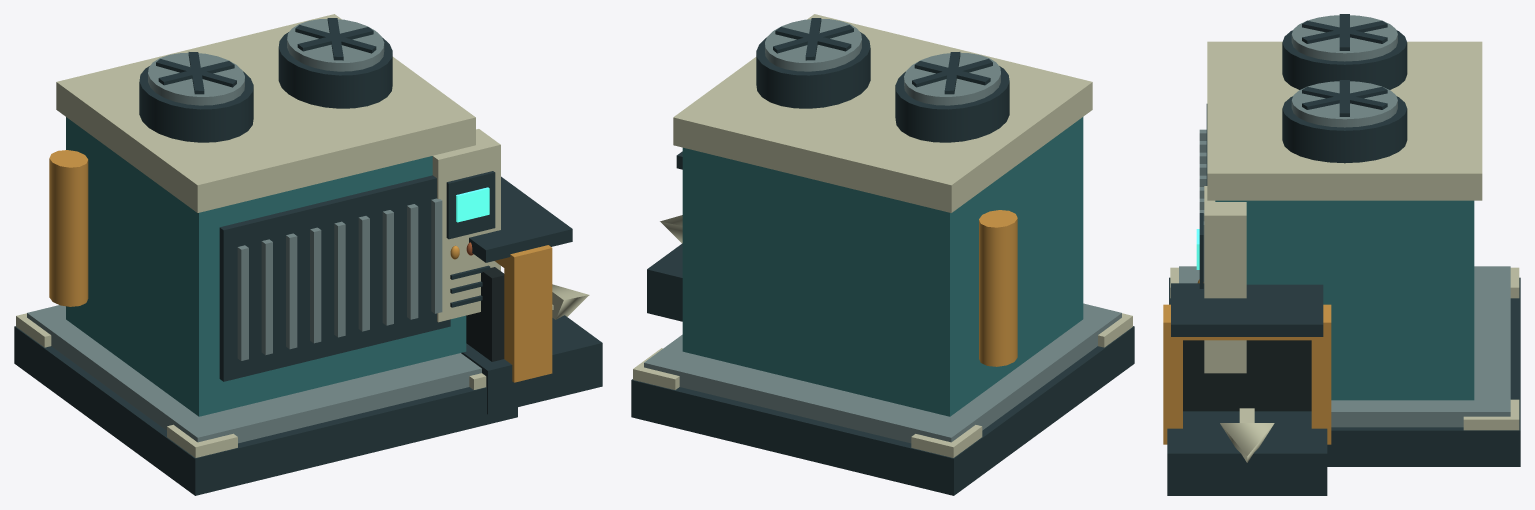
File: collector.glb
3 views of the same model, side by side, from view 1: azimuth 30°, elevation 25°; view 2: azimuth 150°, elevation 25°; view 3: azimuth 270°, elevation 25° (orthographic). The views are drawn at different scales.
Visible parts, largest first — view 1: Batched static factory; view 2: Batched static factory; view 3: Batched static factory.
Boxes of the visible parts, left/top/right/bottom form: Batched static factory: left=14, top=14, right=602, bottom=495; Batched static factory: left=631, top=14, right=1134, bottom=495; Batched static factory: left=1163, top=14, right=1520, bottom=495.
Bounding box in the file's own units: 2.56 × 1.85 × 1.83.
